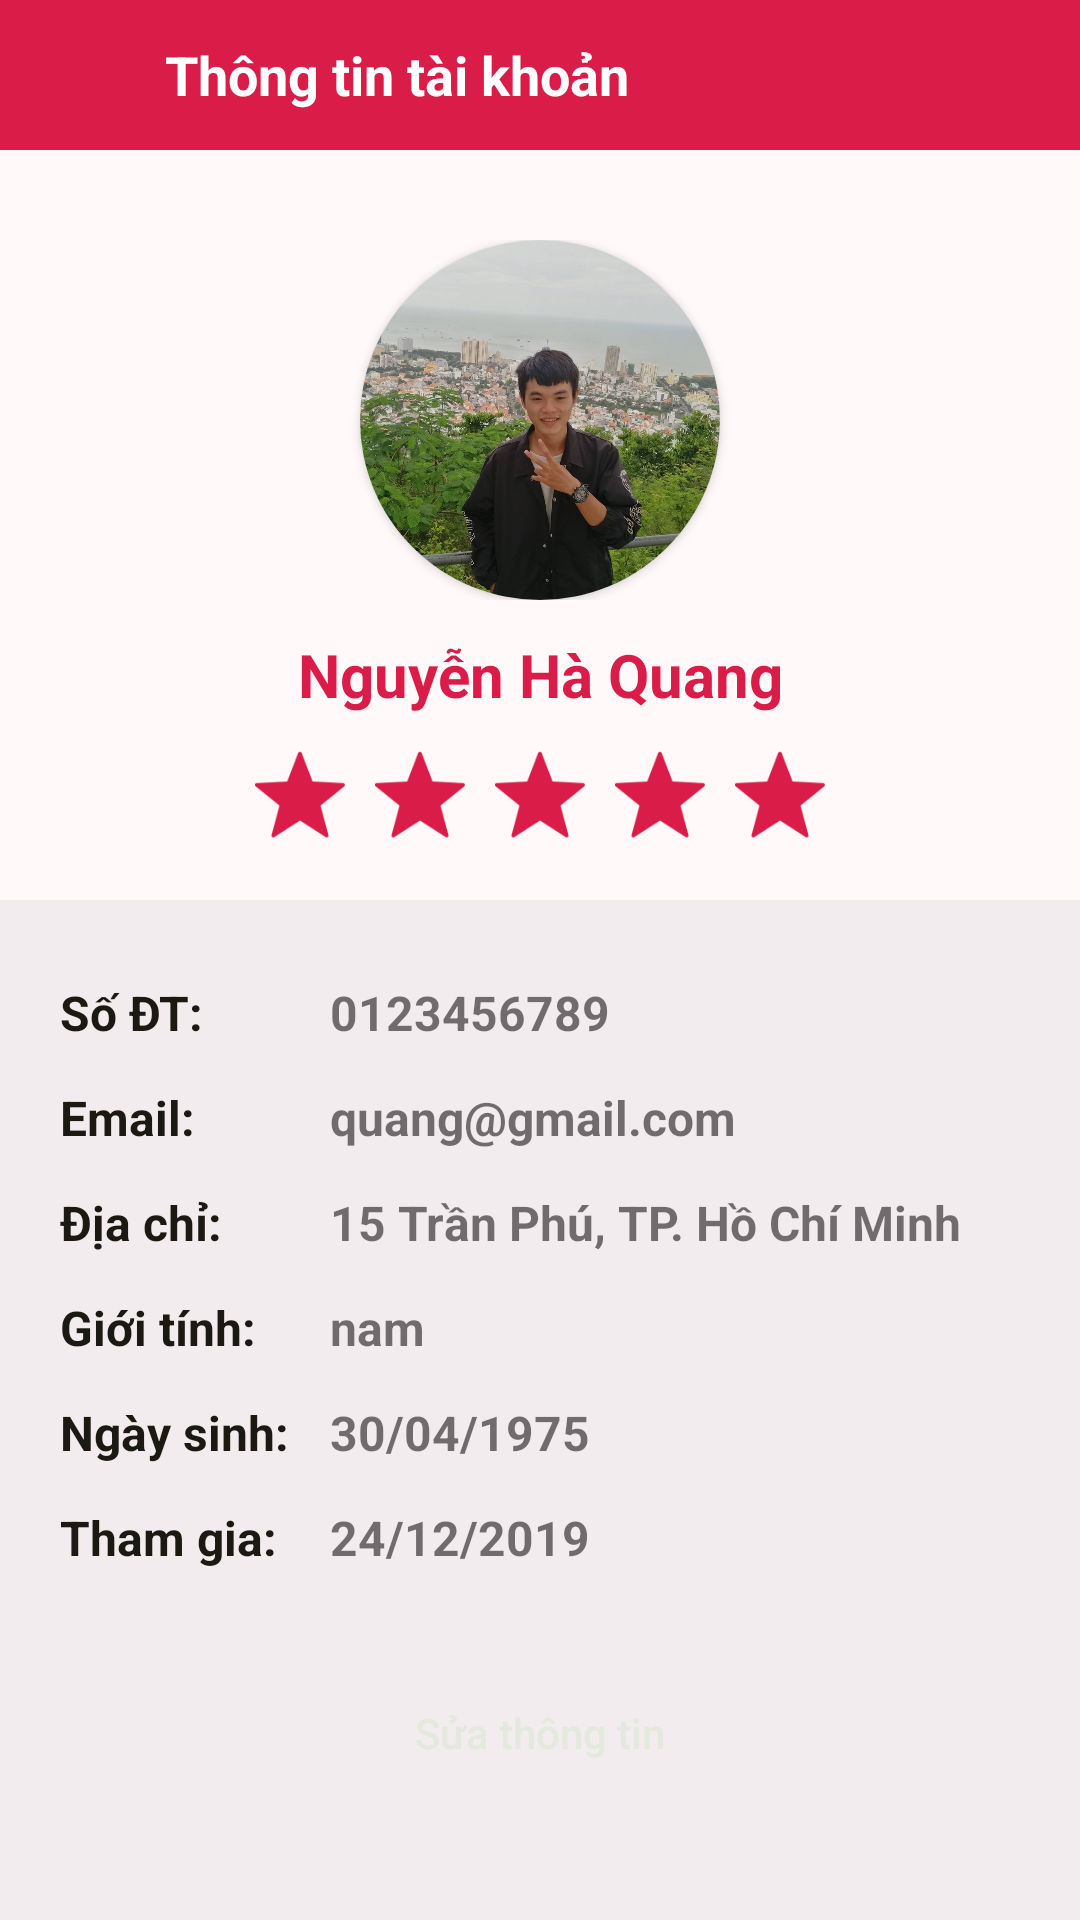

Where to tap for icons on this 1080px x 1920px app screen, as point (x, y):
star: point (300, 794), point (420, 794), point (540, 794), point (660, 794), point (780, 794)
